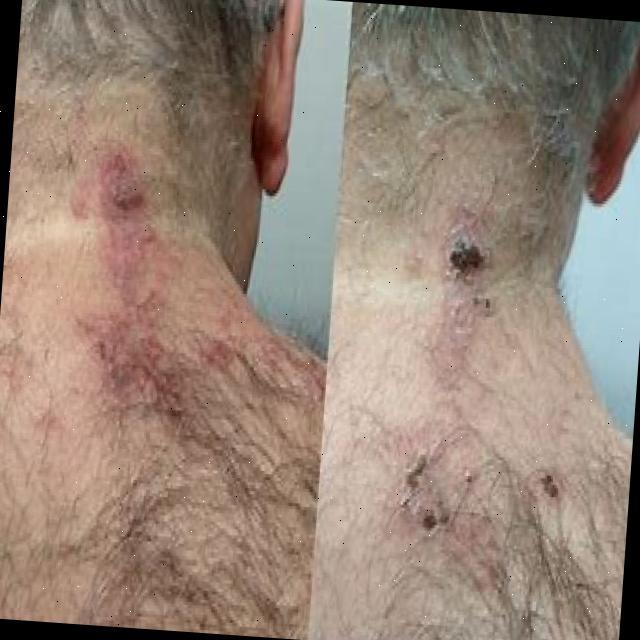Shingles: (73, 146, 170, 388), (443, 202, 496, 389)
